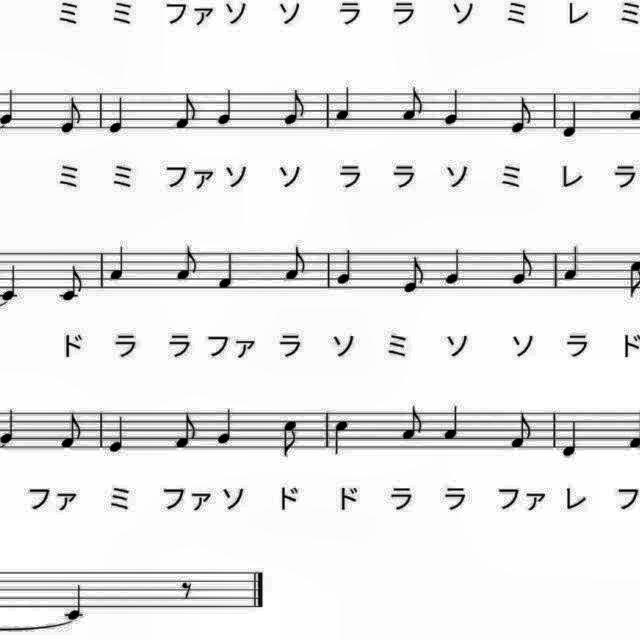Eighth-note: (55, 262, 89, 306), (278, 84, 310, 130), (56, 92, 88, 138), (56, 406, 88, 452), (170, 408, 202, 452), (507, 92, 537, 138), (400, 252, 430, 298), (507, 246, 538, 290), (278, 243, 310, 285), (171, 90, 201, 134), (507, 408, 537, 452), (399, 83, 429, 125), (171, 243, 201, 285), (399, 402, 429, 444), (278, 416, 302, 460)
Eighth-rest: (176, 576, 198, 604)
Quarter-note: (60, 582, 92, 626), (440, 246, 468, 290), (558, 96, 586, 140), (213, 84, 239, 130), (214, 249, 240, 293), (104, 414, 130, 458), (559, 418, 585, 462), (104, 92, 130, 136), (334, 246, 360, 290), (441, 86, 467, 130), (213, 404, 239, 448), (441, 402, 467, 444), (0, 260, 24, 303), (106, 243, 130, 285), (334, 83, 358, 125), (560, 241, 584, 283), (0, 404, 22, 448), (332, 416, 354, 459), (0, 85, 20, 129)
